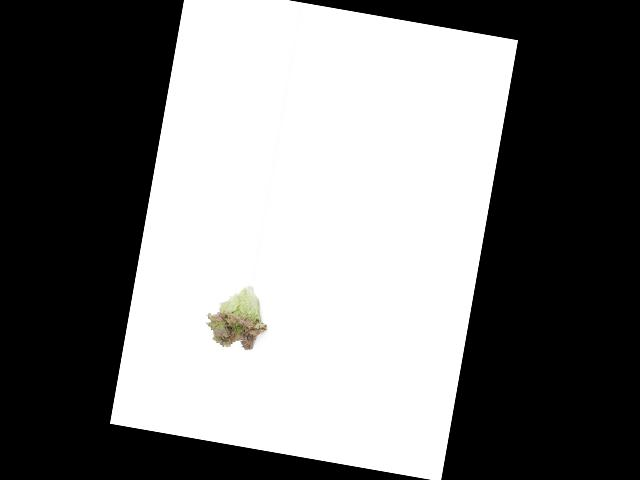lettuce: (198, 277, 279, 362)
